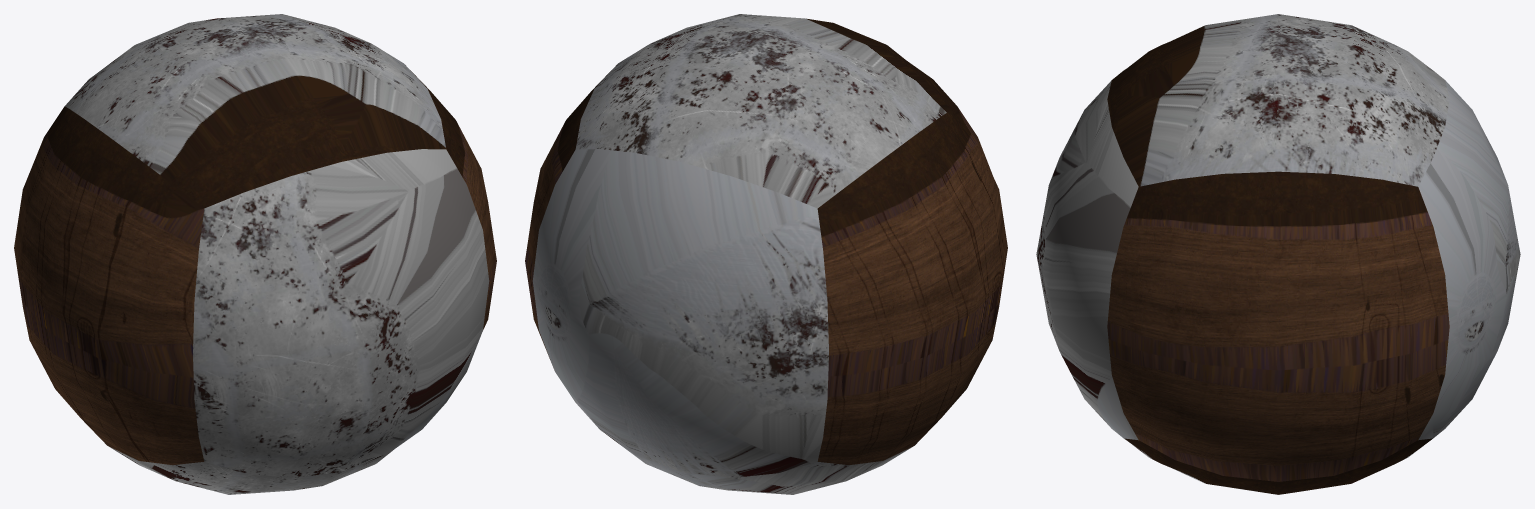
Rendered from Ball.fbx.
3 views of the same model, side by side, from view 1: azimuth 30°, elevation 25°; view 2: azimuth 150°, elevation 25°; view 3: azimuth 270°, elevation 25° (orthographic).
Visible parts, largest first — view 1: Group26960; view 2: Group26960; view 3: Group26960.
Part boxes in pixels (x1,y1,x2,y2): Group26960: (14,14,496,494); Group26960: (525,14,1007,494); Group26960: (1036,14,1520,494).
Size of the model in its own units: 2 by 2 by 2.
